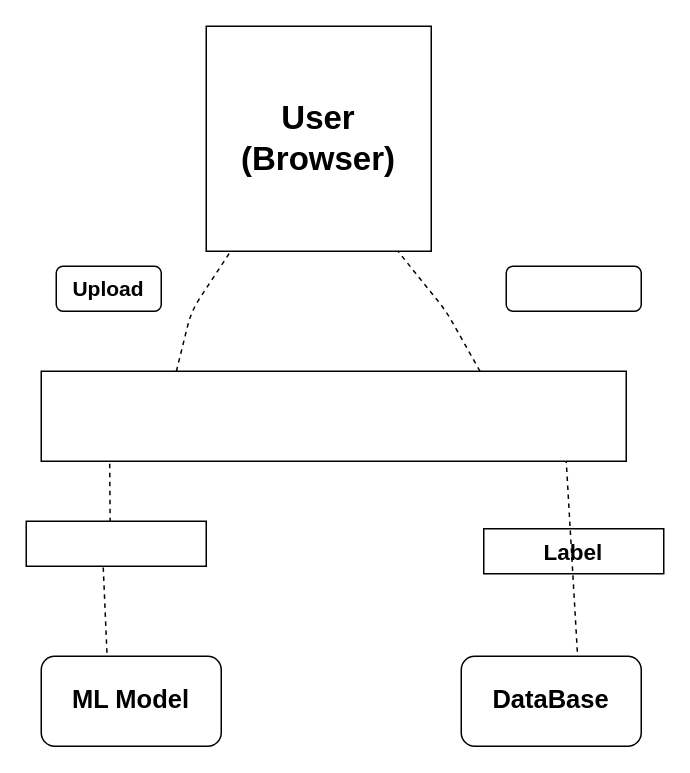
Image size: 690x773. Some labels were removed from this diagram. The shapes that lost their labels are listed below. From the top down, each one's box as (x1, y1, x2, y2) in pixels, then its label:
(505, 265, 641, 311): Result
(40, 370, 626, 461): Flask Server
(25, 520, 206, 566): Predict
